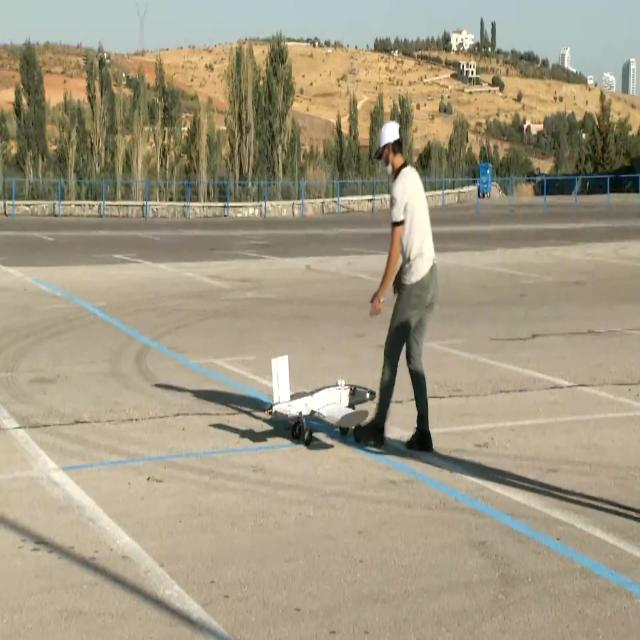iha: (294, 387, 346, 417)
